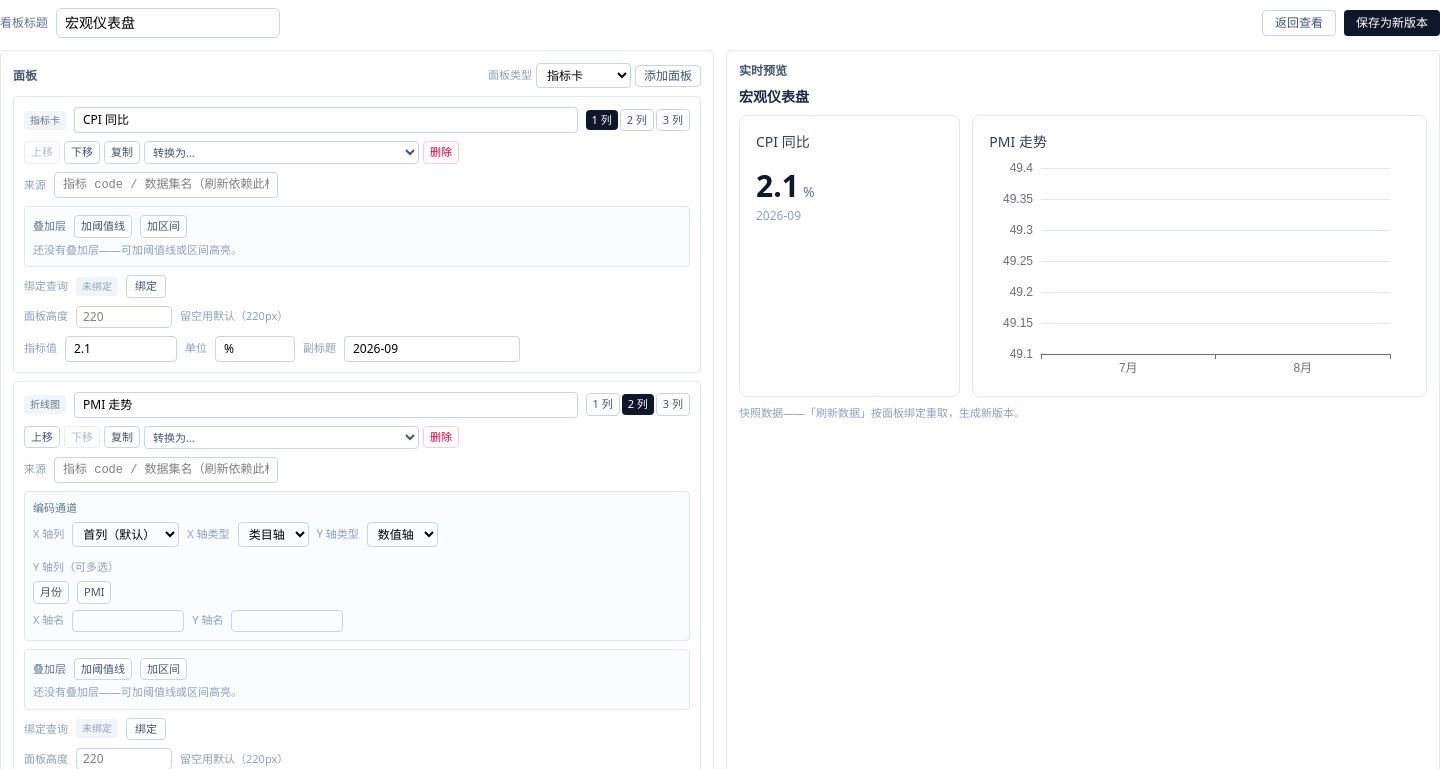
it: DashboardEditor（基础编辑器 v1） › 保存失败如实呈现服务端错误（如归档 409）
Click the button with test id "editor-save" at [1392, 23], box [1344,10,1439,36]
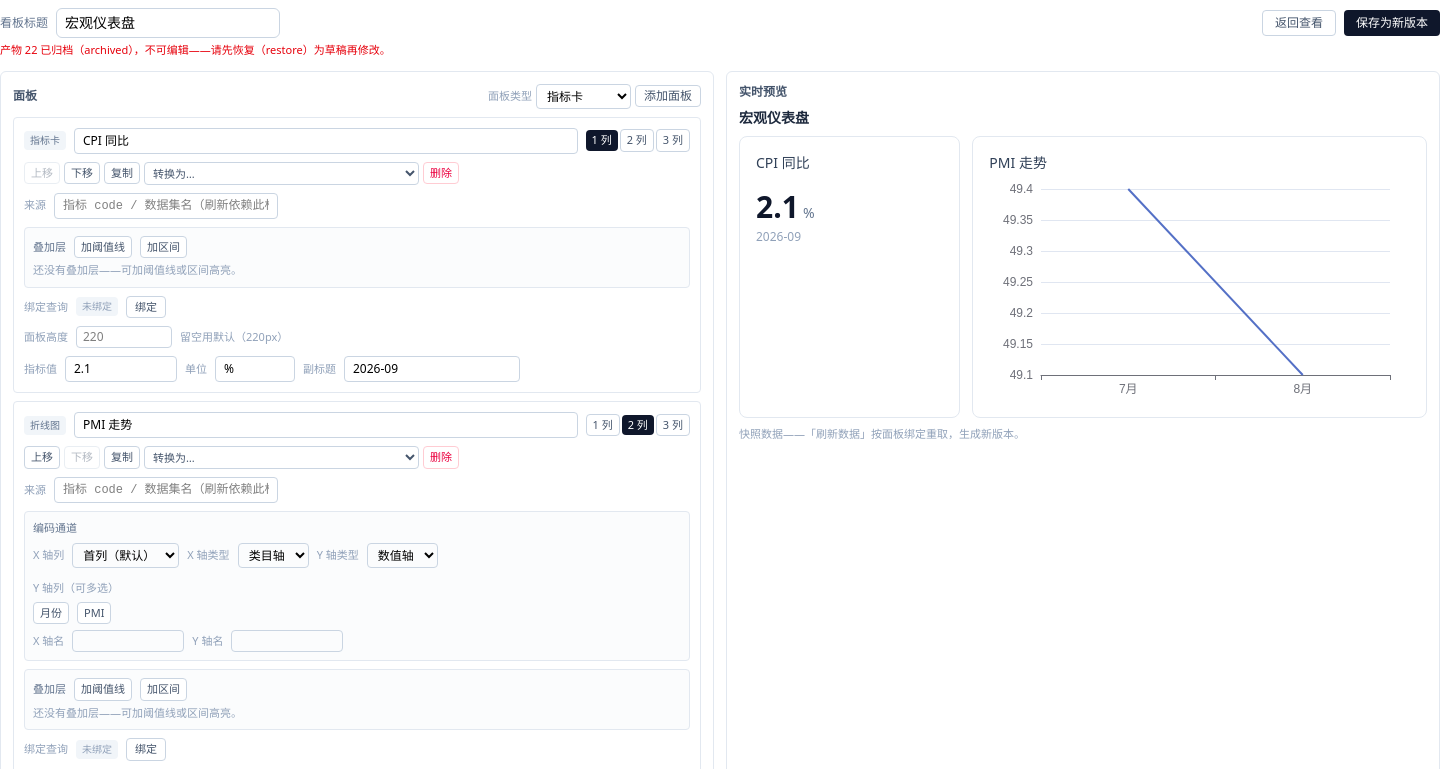
Result: the text with test id "editor-server-error" shows "已归档" at [0,42,391,57]
